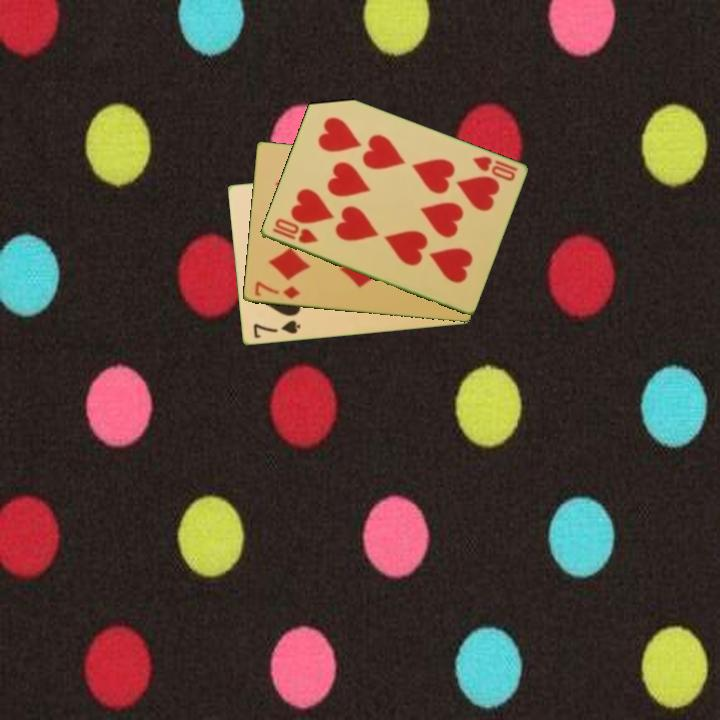10h: (268, 215, 320, 247), (468, 153, 520, 184)
7d: (251, 278, 302, 302)
7s: (249, 317, 303, 341)
